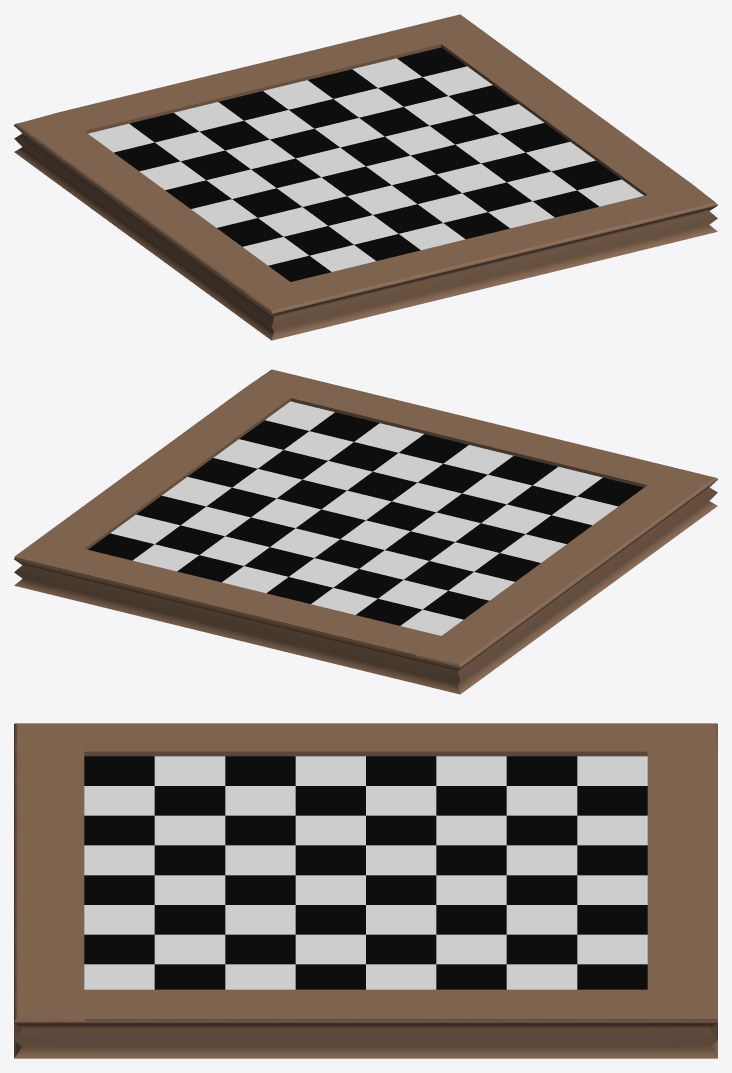
File: Chess Board.fbx
3 views of the same model, one above another, from view 1: azimuth 30°, elevation 25°; view 2: azimuth 150°, elevation 25°; view 3: azimuth 270°, elevation 25° (orthographic). The views are drawn at different scales.
Parts seen in each view (by area): view 1: polySurface4; view 2: polySurface4; view 3: polySurface4.
Part boxes in pixels (box(x1,y1,x2,y2)): polySurface4: box(14, 14, 717, 340); polySurface4: box(14, 369, 717, 694); polySurface4: box(14, 723, 717, 1058).
Size of the model in its own units: 30.08 by 1.85 by 30.08.
